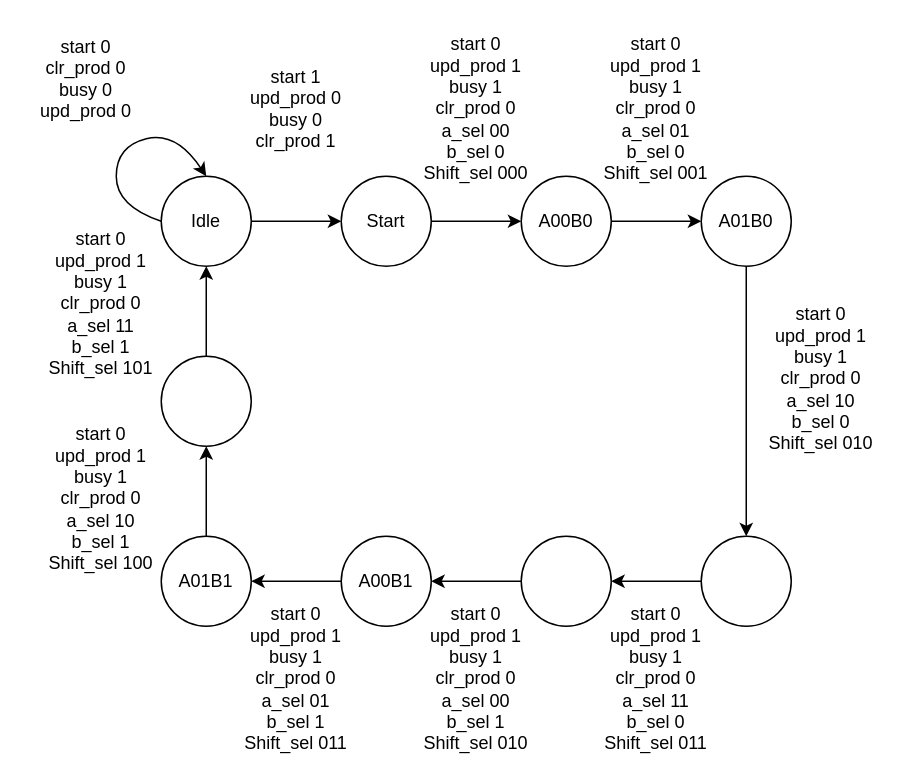
Some shapes in this 906 by 780 pixel diagram are drawn without their labels. The box of each missing label's shape, as (x1, y1, x2, y2) in pixels:
A10B0: (700, 535, 791, 626)
A10B1: (160, 355, 251, 446)
A11B0: (520, 535, 611, 626)
